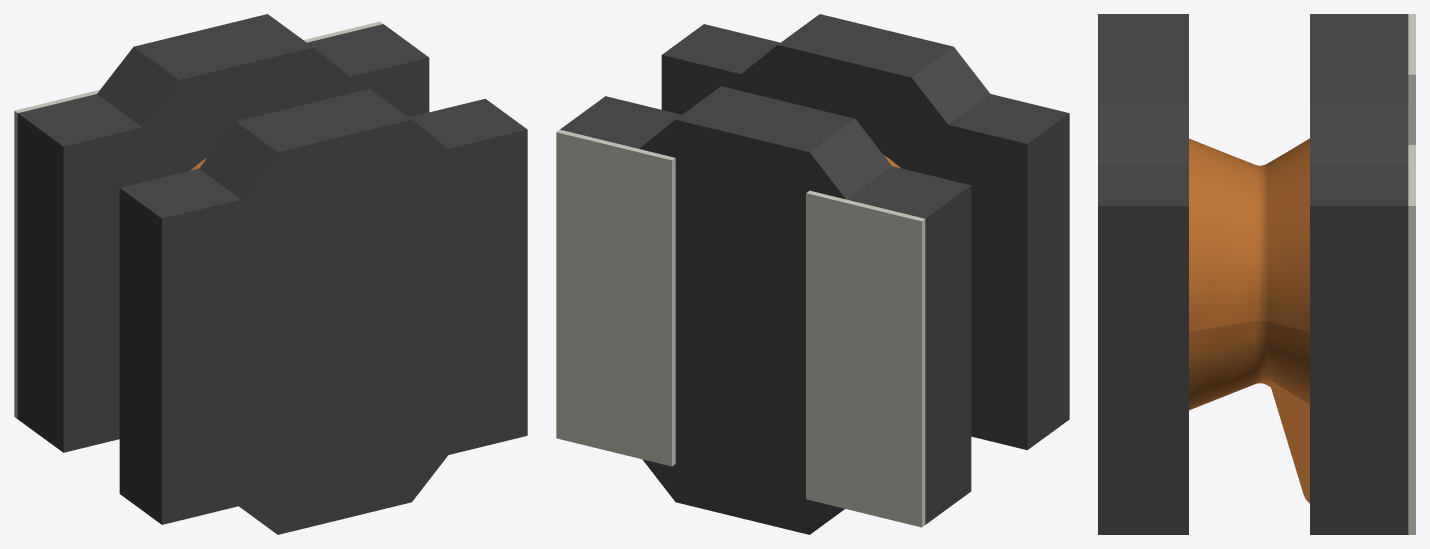
The model's file is Inductor_SMD_L_Bourns_SRN6045TA.glb.
The picture shows the model from 3 angles, left to right: view 1: azimuth 30°, elevation 25°; view 2: azimuth 150°, elevation 25°; view 3: azimuth 270°, elevation 25°; orthographic projection. The views are drawn at different scales.
Bounding box in the file's own units: 6 × 6 × 4.2.
